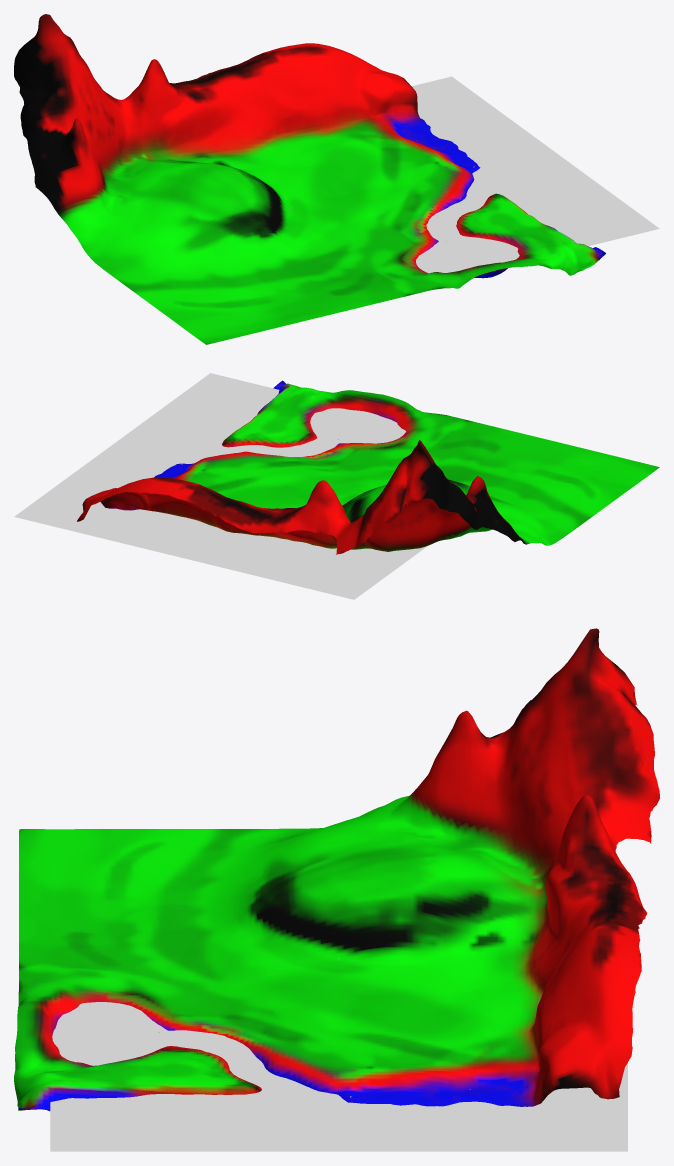
Rendered from landscape3.glb.
3 views of the same model, one above another, from view 1: azimuth 30°, elevation 25°; view 2: azimuth 150°, elevation 25°; view 3: azimuth 270°, elevation 25° (orthographic). The views are drawn at different scales.
Visible parts, largest first — view 1: landscape, Plane.001; view 2: landscape, Plane.001; view 3: landscape, Plane.001.
Part boxes in pixels (<box>): landscape: <box>14,14,605,344</box>; Plane.001: <box>412,76,659,273</box>; landscape: <box>77,380,659,554</box>; Plane.001: <box>14,373,427,599</box>; landscape: <box>14,628,659,1111</box>; Plane.001: <box>50,1002,627,1151</box>.
Size of what is drawn, in the model's own units: 912 by 357 by 776.
2 materials, 1 textured.
